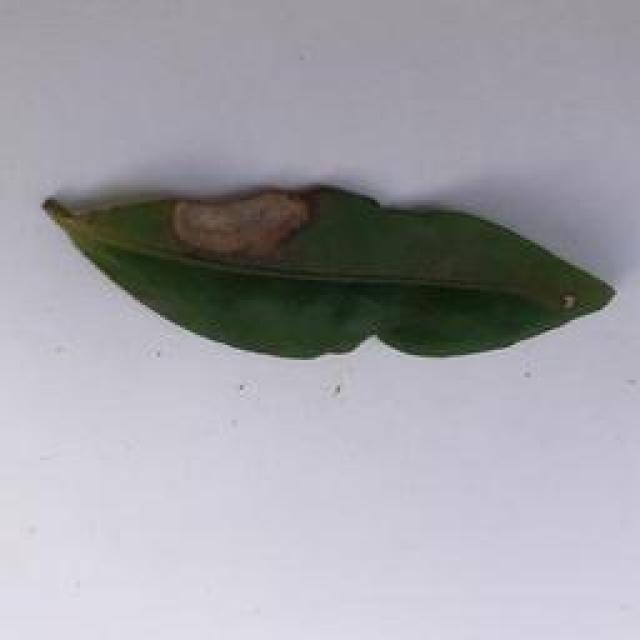Gray Blight: (39, 164, 621, 378)
